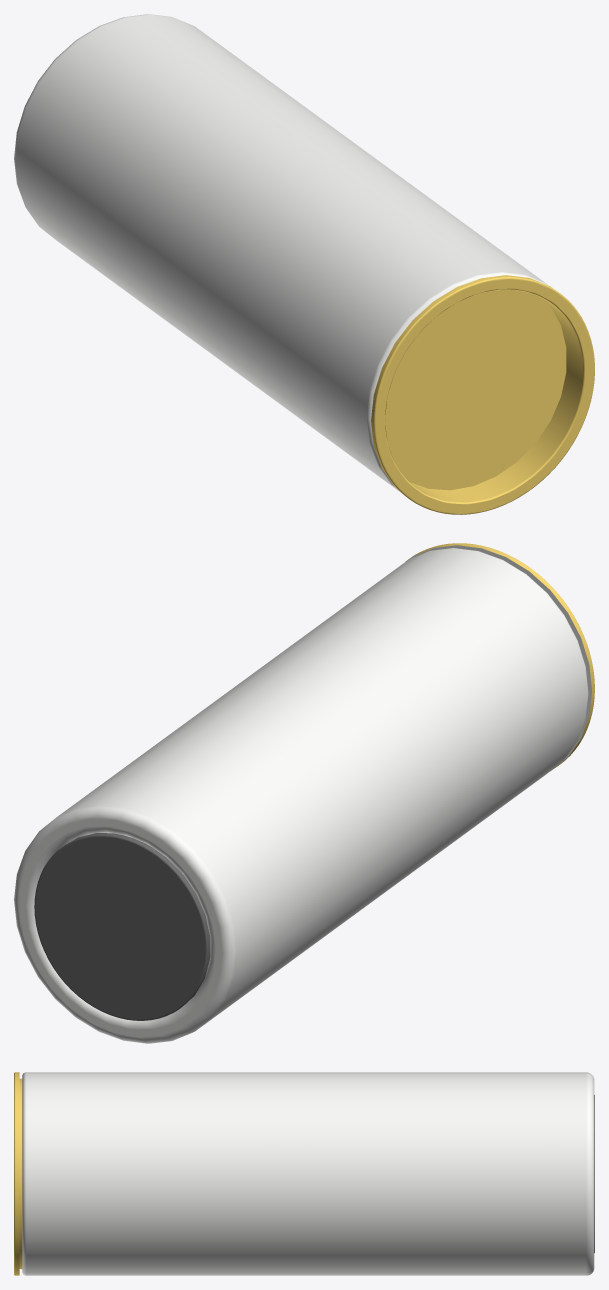
Rendered from tumbler.glb.
3 renders of one model, top to bottom at view 1: azimuth 30°, elevation 25°; view 2: azimuth 150°, elevation 25°; view 3: azimuth 270°, elevation 25°, orthographic. The views are drawn at different scales.
Parts seen in each view (by area): view 1: Tumbler v3; view 2: Tumbler v3; view 3: Tumbler v3.
Boxes of the visible parts, x1,y1,x2,y2 form: Tumbler v3: (14,14,594,514); Tumbler v3: (14,543,594,1043); Tumbler v3: (14,1072,594,1275).
Size of the model in its own units: 7.4 by 7.4 by 21.12.
